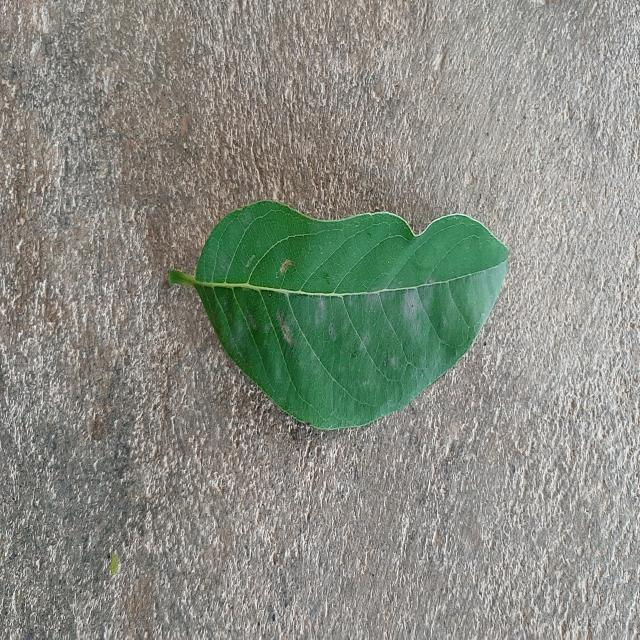seethaphala: (169, 201, 509, 428)
